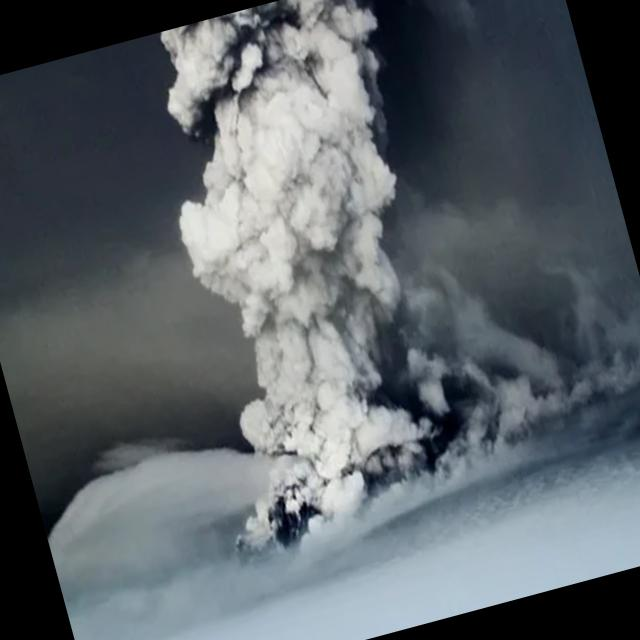Smoke: (113, 0, 557, 507)
